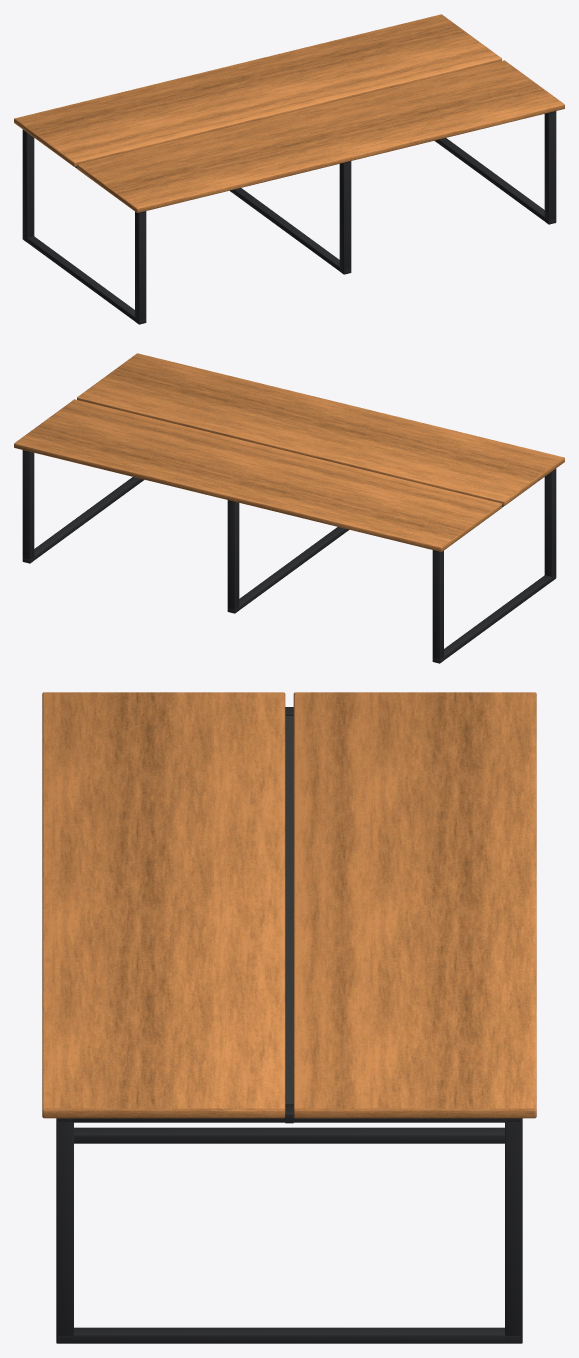
File: workstation.bench-desk-4.glb
3 views of the same model, one above another, from view 1: azimuth 30°, elevation 25°; view 2: azimuth 150°, elevation 25°; view 3: azimuth 270°, elevation 25° (orthographic). The views are drawn at different scales.
Visible parts, largest first — view 1: workstation.bench-desk-4.001; view 2: workstation.bench-desk-4.001; view 3: workstation.bench-desk-4.001.
Part boxes in pixels (left/top/right/bottom): workstation.bench-desk-4.001: left=14, top=14, right=564, bottom=324; workstation.bench-desk-4.001: left=14, top=353, right=564, bottom=663; workstation.bench-desk-4.001: left=42, top=692, right=536, bottom=1343.
Bounding box in the file's own units: 2.8 × 0.75 × 1.4.
Materials: 3 (1 with a texture image).
